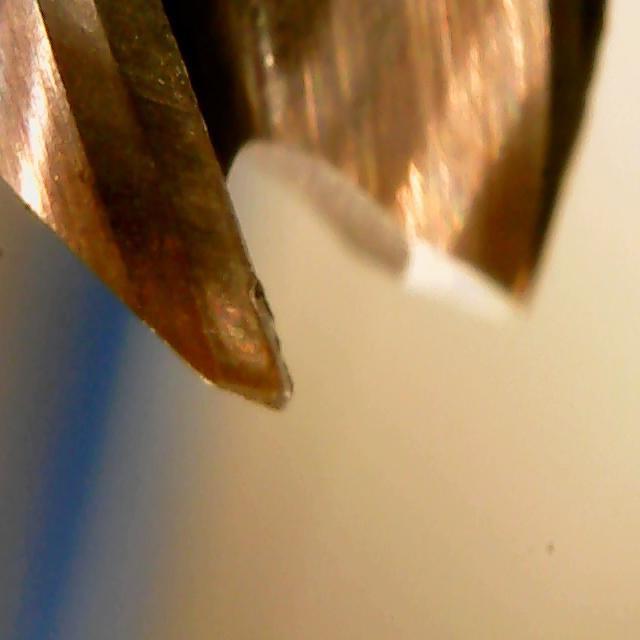Tool-wear-class-1: (141, 175, 325, 420)
